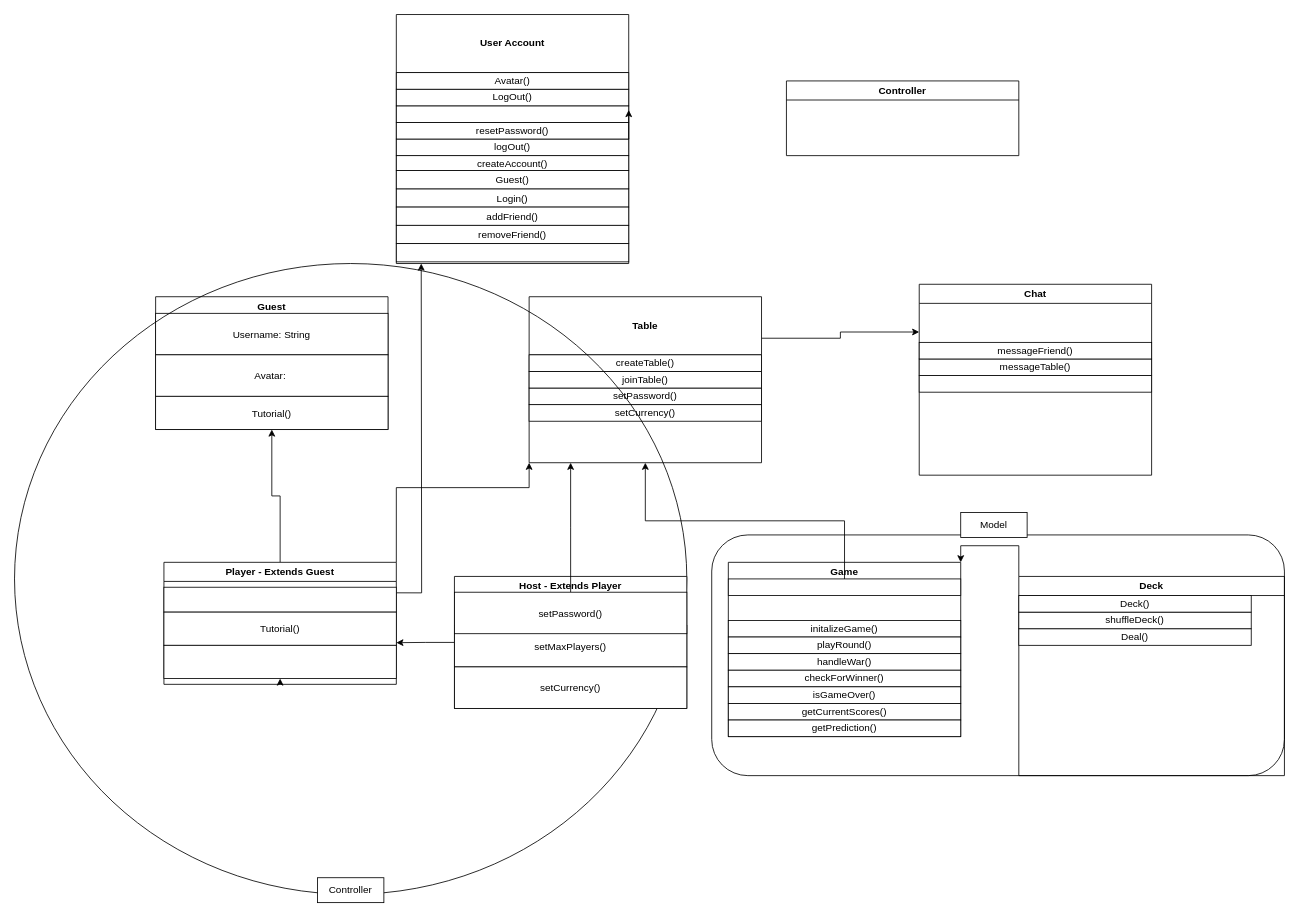
Some shapes in this 1299 by 917 pixel diagram are drawn without their labels. The centre of each missing label's shape, as x and y in pixels:
"Class Deck" belongs at [844,587].
"displayFriends()" belongs at [512,252].
"Password: String" belongs at [279,599].
"showFriends()" belongs at [1035,383].
"Stats()" belongs at [279,661].
"updateInfo()" belongs at [512,113].
